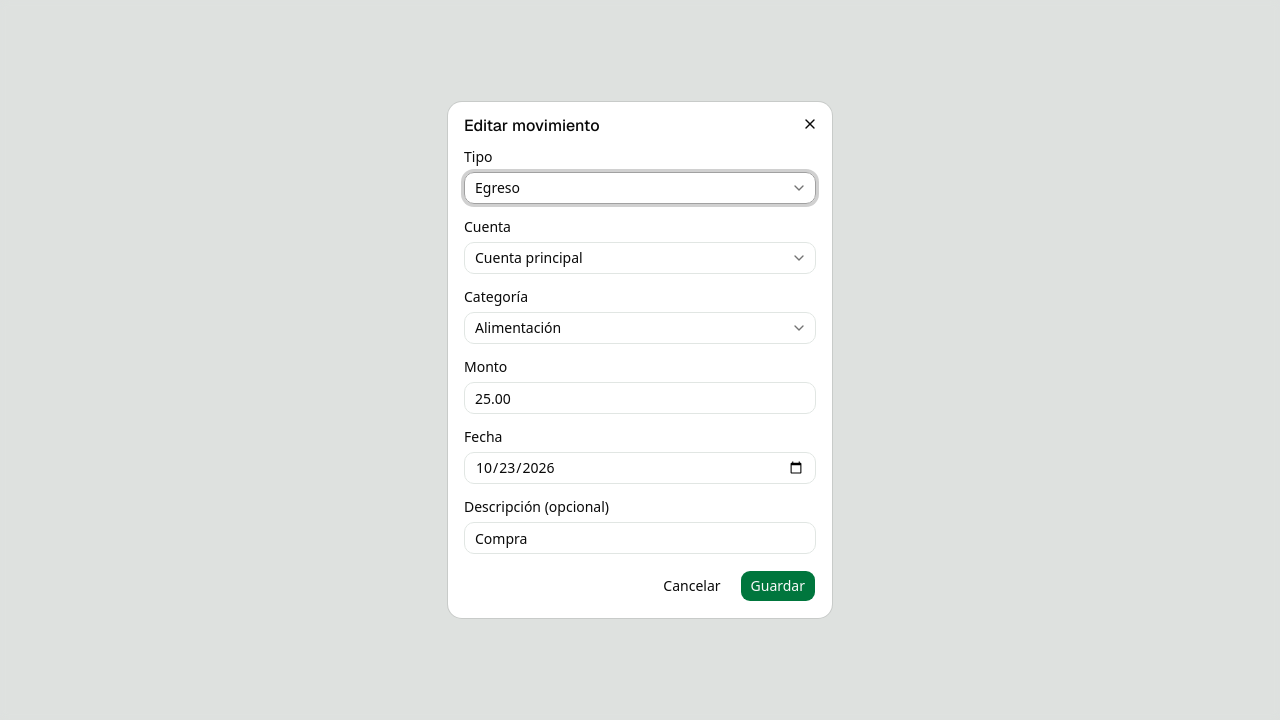
TransactionFormModal › muestra el error 409 que devuelve la API al editar
Press ArrowDown in the dropdown named "Tipo", box [464,172,816,204]
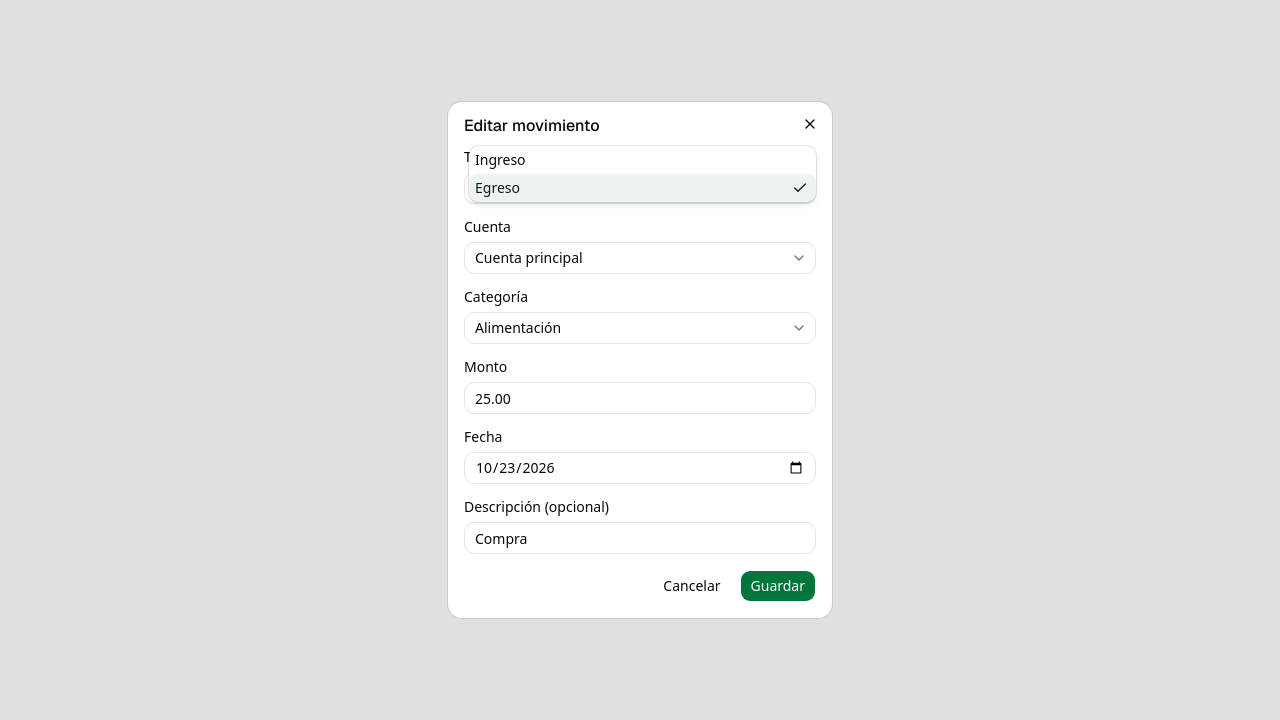
Click the option "Ingreso".
click(500, 160)  # box [475,150,526,169]
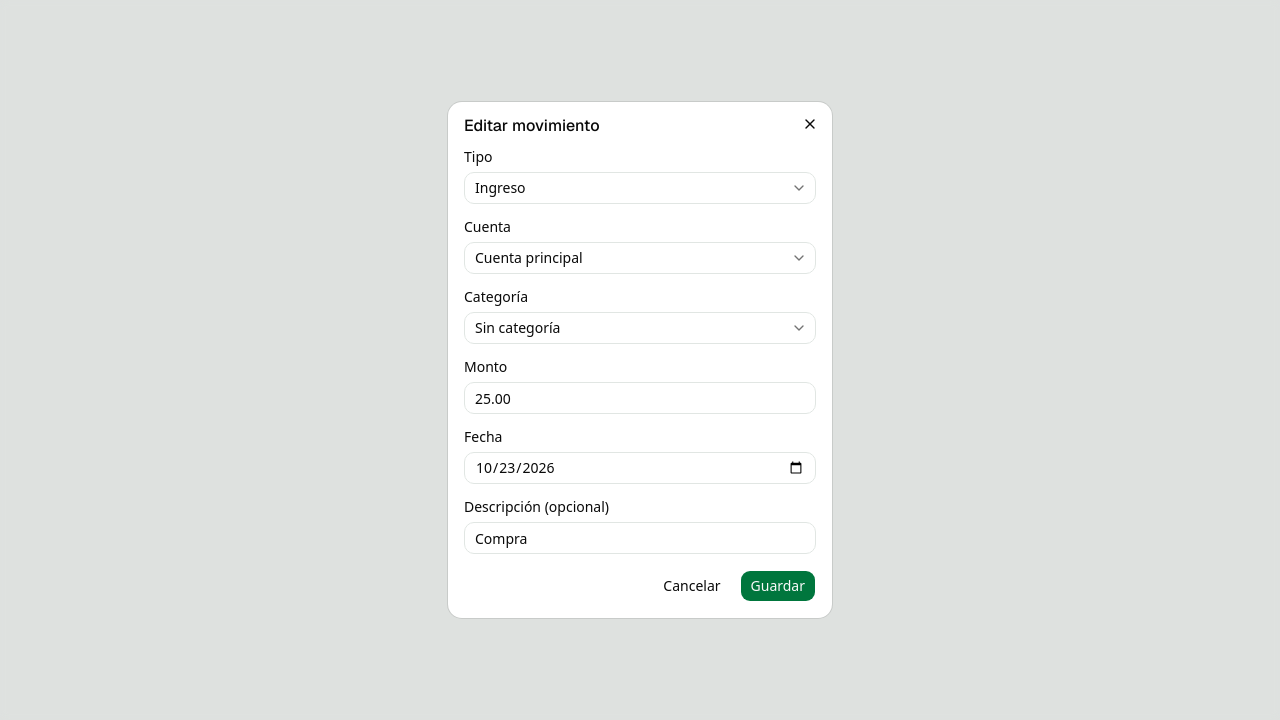
Click the button "Guardar".
click(778, 586)  # box [740,570,816,602]
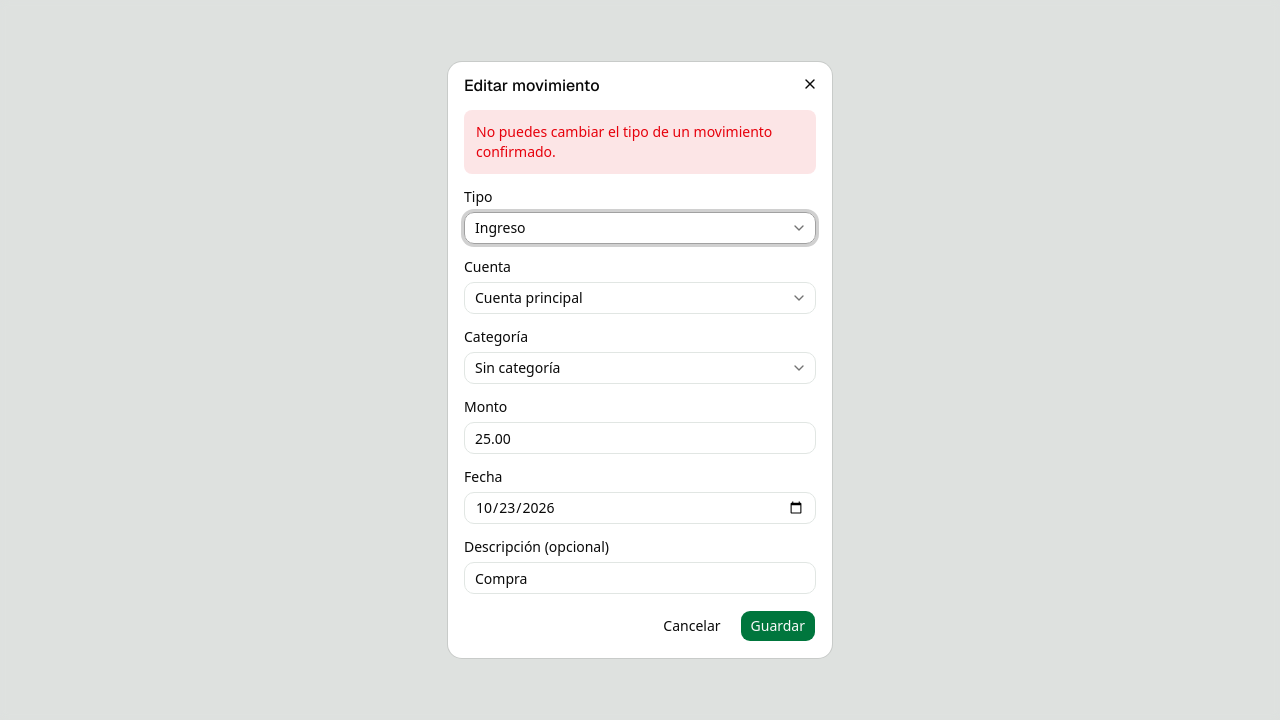
Expected: the message reads "No puedes cambiar el tipo de un movimiento confirmado.", [476,122,772,161]
